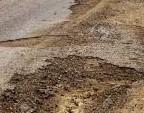pothole: (0, 54, 144, 113), (5, 0, 144, 48)
